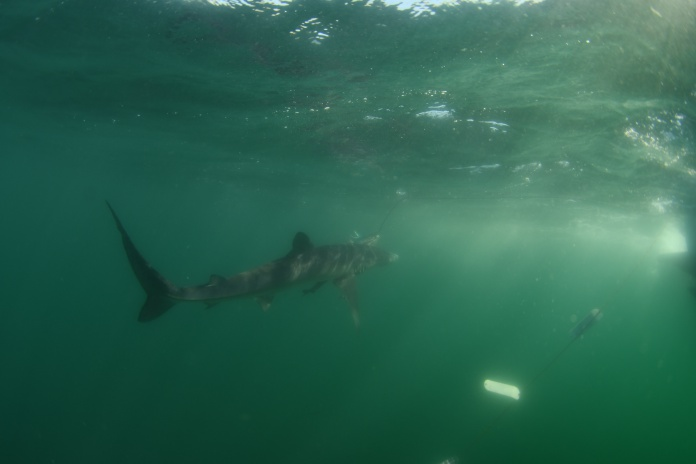Azul: (89, 186, 404, 339)
